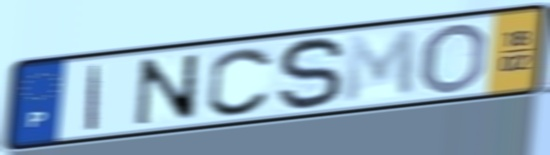C: (204, 45, 277, 118)
I: (84, 62, 105, 132)
M: (341, 26, 419, 106)
N: (133, 52, 201, 128)
O: (416, 20, 490, 96)
S: (276, 34, 348, 115)
